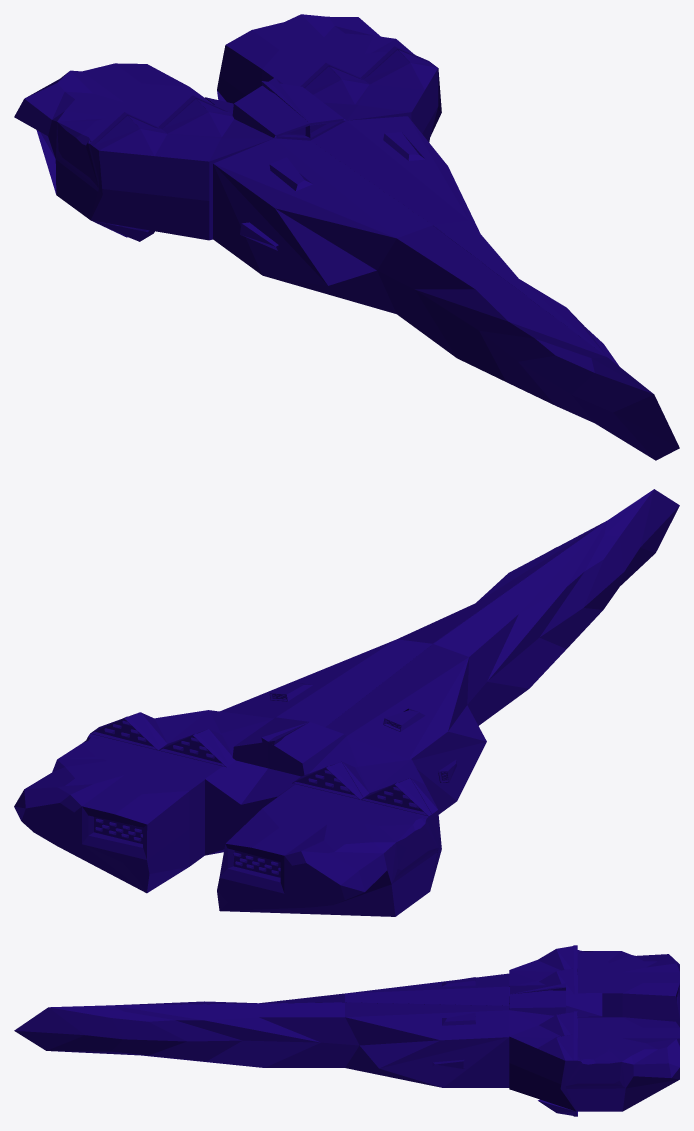
File: space ship 2.fbx
3 views of the same model, one above another, from view 1: azimuth 30°, elevation 25°; view 2: azimuth 150°, elevation 25°; view 3: azimuth 270°, elevation 25° (orthographic). The views are drawn at different scales.
Parts seen in each view (by area): view 1: Куб; view 2: Куб; view 3: Куб.
Boxes of the visible parts, <box> form: Куб: <box>14,14,679,460</box>; Куб: <box>14,489,679,916</box>; Куб: <box>14,945,679,1116</box>.
Bounding box in the file's own units: 969 × 345 × 2374.
